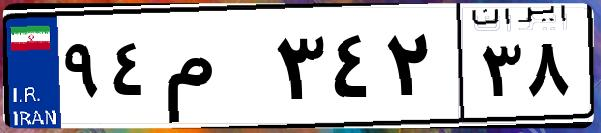2: (385, 28, 445, 110)
3: (270, 28, 330, 110), (475, 38, 525, 113)
4: (330, 28, 385, 110), (110, 28, 158, 98)
8: (525, 38, 570, 115)
9: (57, 26, 110, 100)
م: (158, 20, 270, 120)
